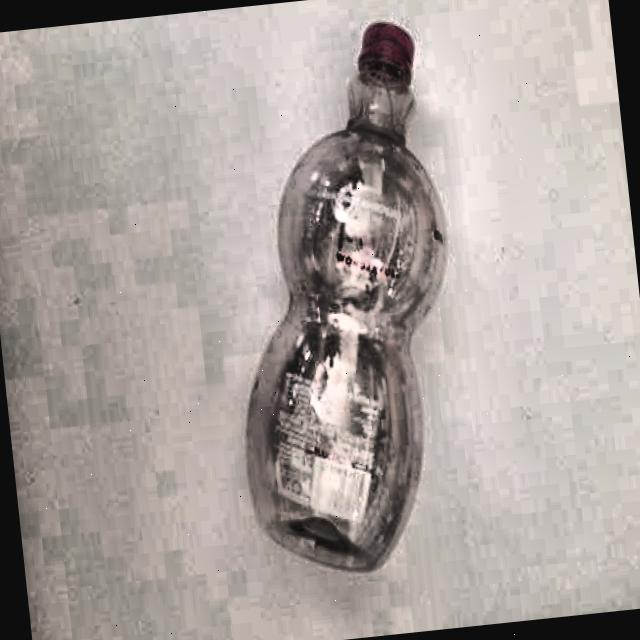plastic: (196, 16, 482, 586)
